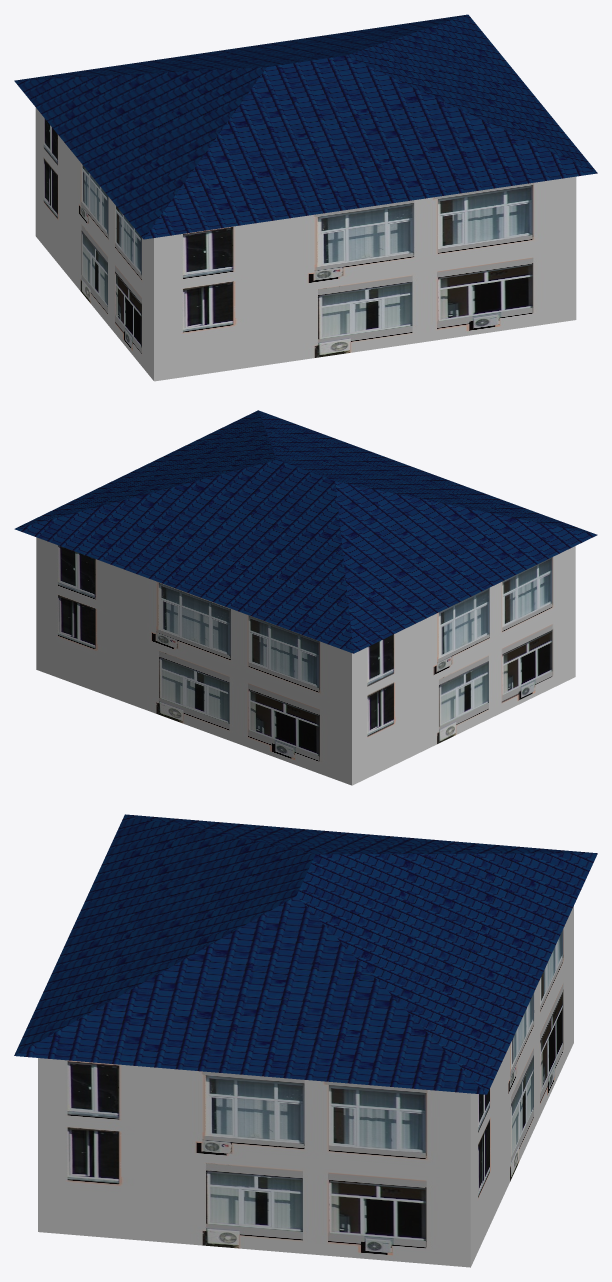
3 views of the same model, one above another, from view 1: azimuth 30°, elevation 25°; view 2: azimuth 150°, elevation 25°; view 3: azimuth 270°, elevation 25° (orthographic). The views are drawn at different scales.
Parts seen in each view (by area): view 1: CityEngineMaterial_6_m, CityEngineMaterial_9_m; view 2: CityEngineMaterial_9_m, CityEngineMaterial_6_m; view 3: CityEngineMaterial_6_m, CityEngineMaterial_9_m.
Boxes of the visible parts, x1,y1,x2,y2 form: CityEngineMaterial_6_m: (14, 14, 597, 239); CityEngineMaterial_9_m: (35, 107, 576, 381); CityEngineMaterial_9_m: (36, 537, 575, 785); CityEngineMaterial_6_m: (14, 410, 597, 653); CityEngineMaterial_6_m: (14, 814, 597, 1094); CityEngineMaterial_9_m: (38, 906, 573, 1267).
Bounding box in the file's own units: 30.38 × 13.26 × 26.74.
